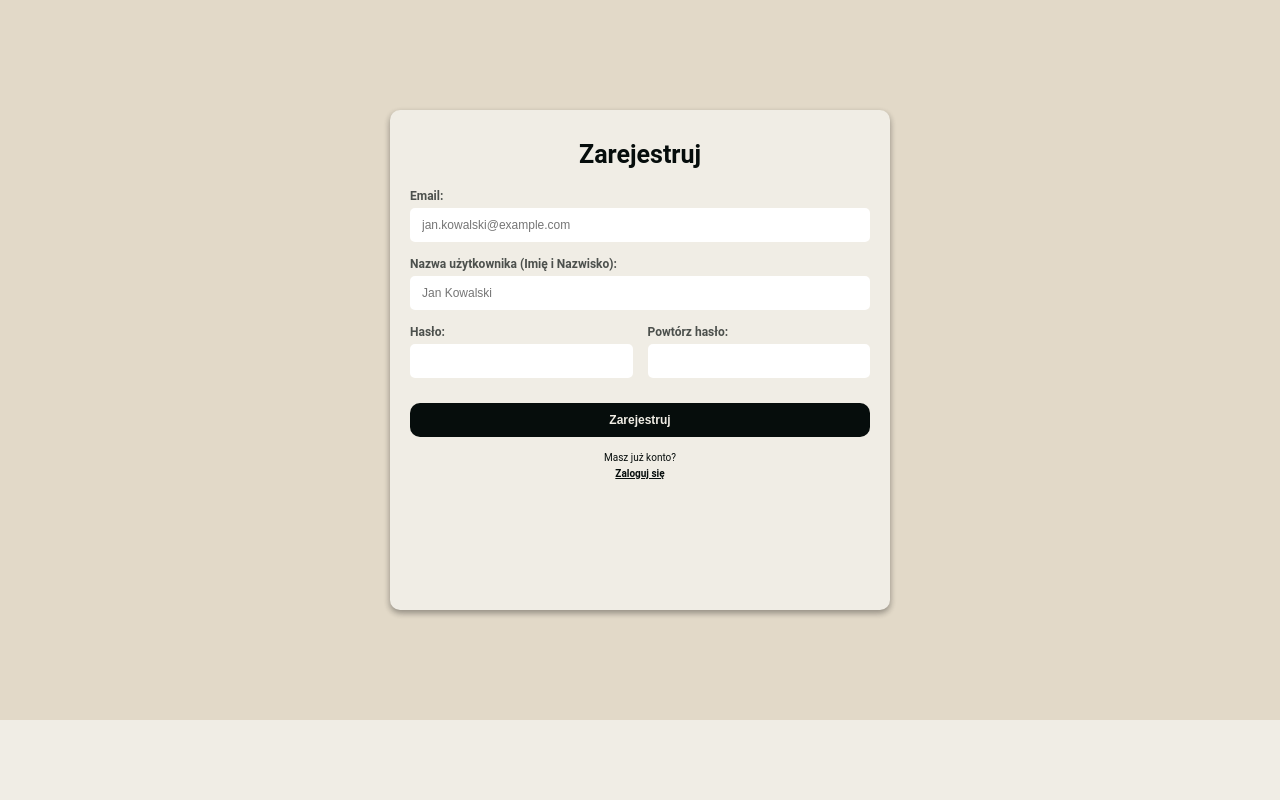
Test case: Register › walidacja haseł › wyświetla błąd gdy hasła się nie zgadzają
Type "haslo123" into the password field labelled "Hasło:" at point(521, 361), box [410,344,632,378]
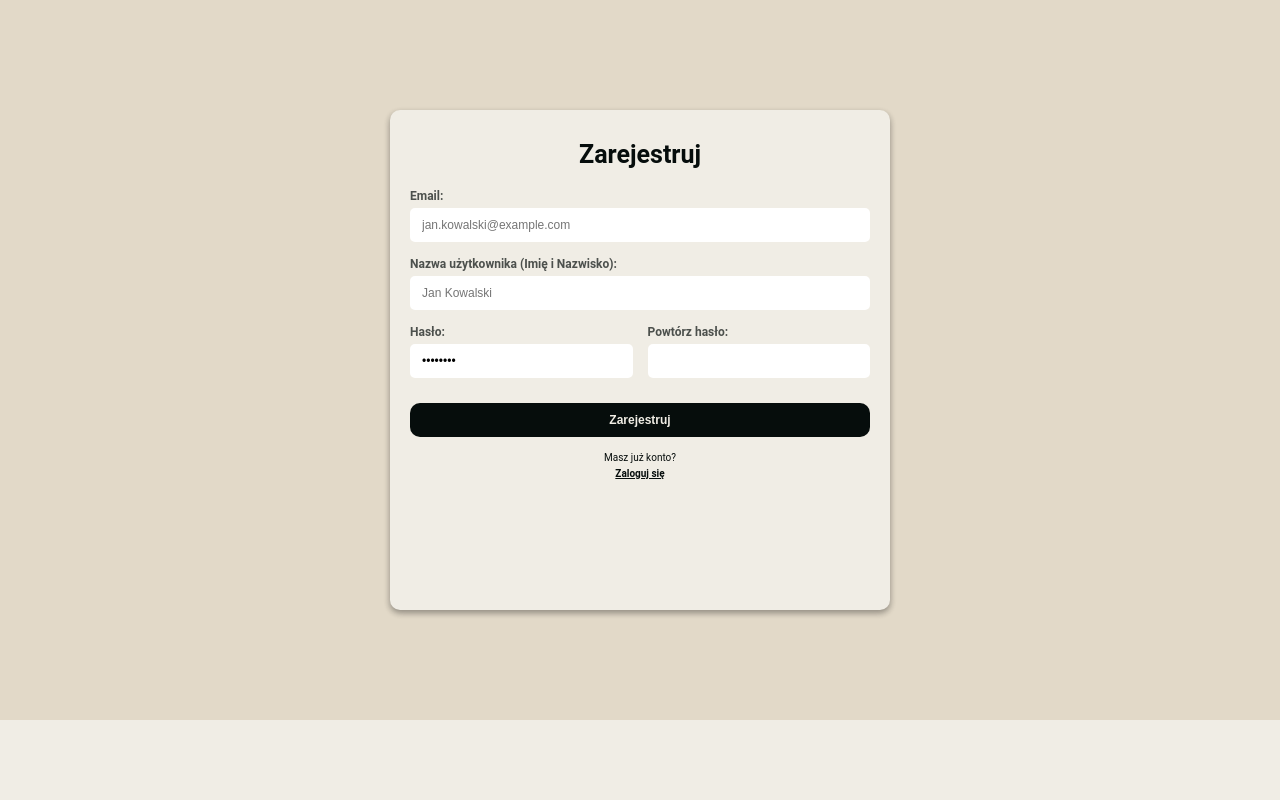
Type "inne123" into the password field labelled "Powtórz hasło:" at point(759, 361), box [648,344,870,378]
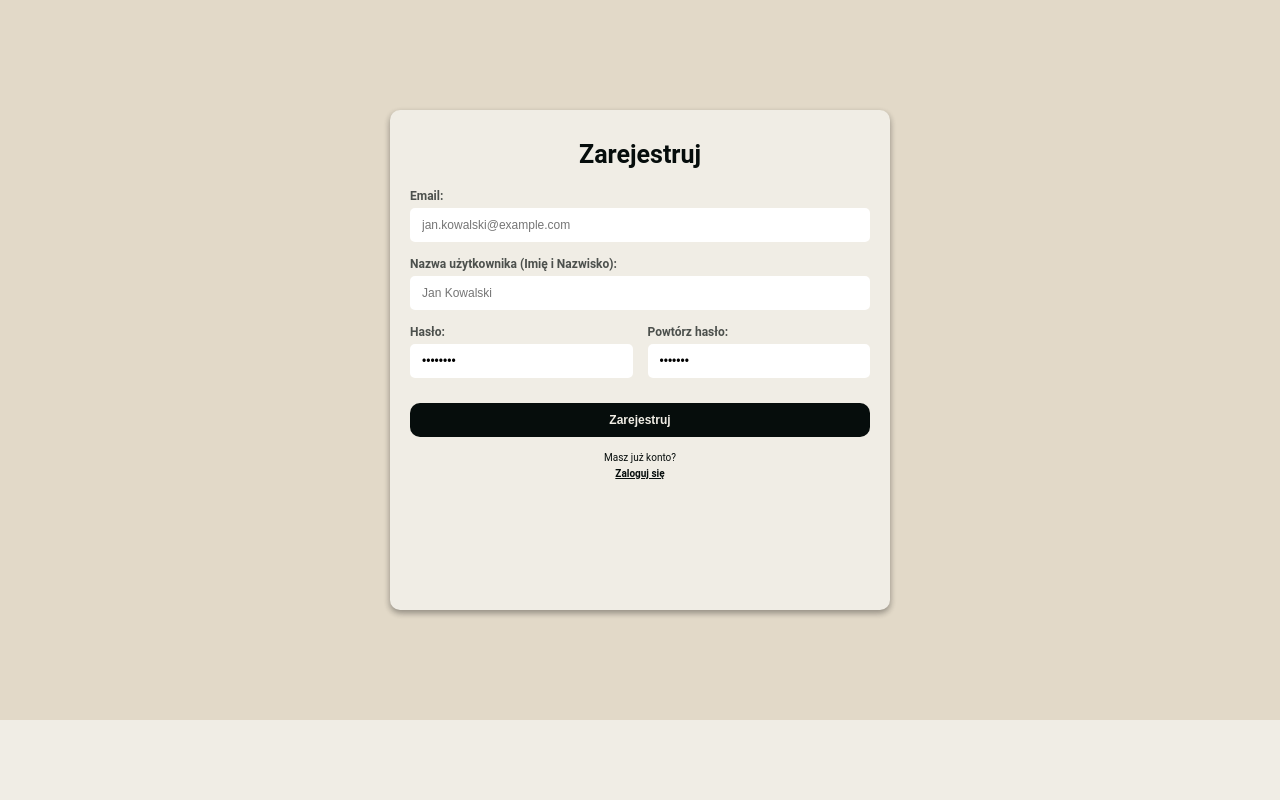
Submit the form, box [410,140,870,479]
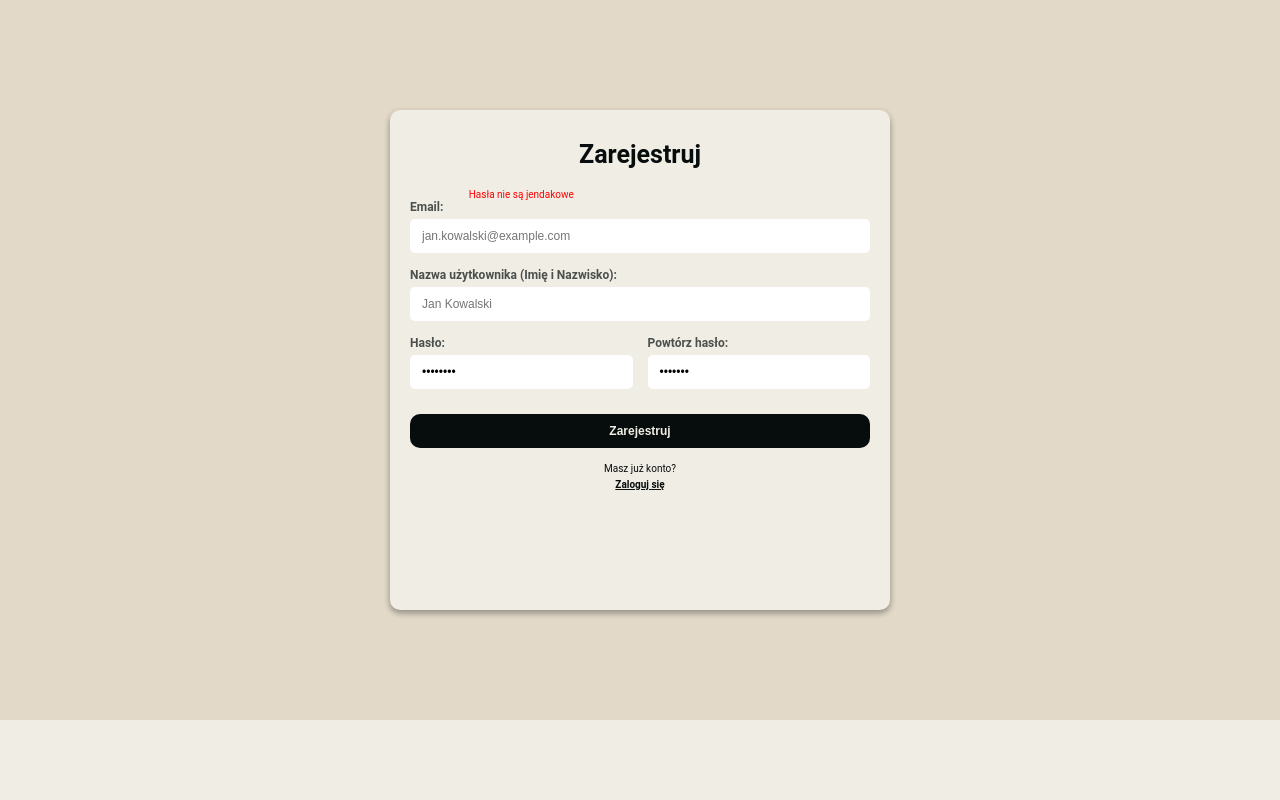
Expected: the text "Hasła nie są jendakowe" is shown, [469,189,574,200]
